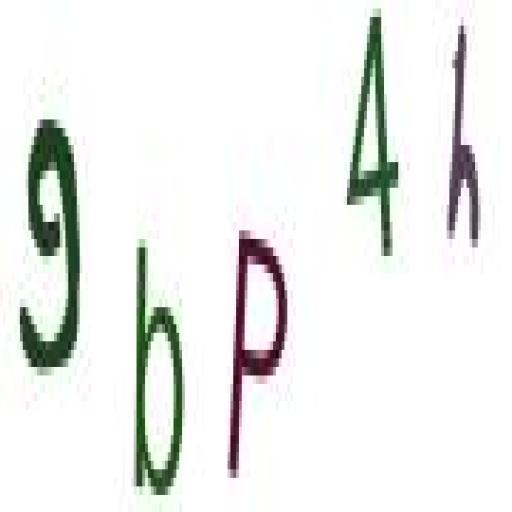4: (342, 10, 404, 272)
9: (14, 94, 89, 416)
P: (228, 214, 293, 489)
d: (128, 225, 190, 508)
h: (442, 11, 482, 258)
